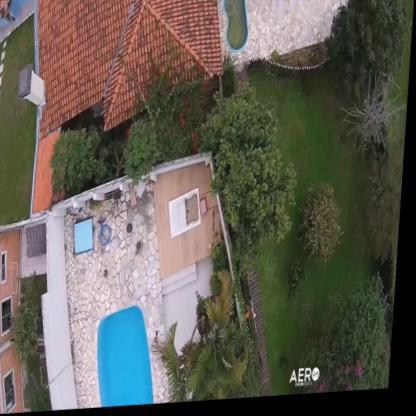agua: (222, 0, 251, 57)
